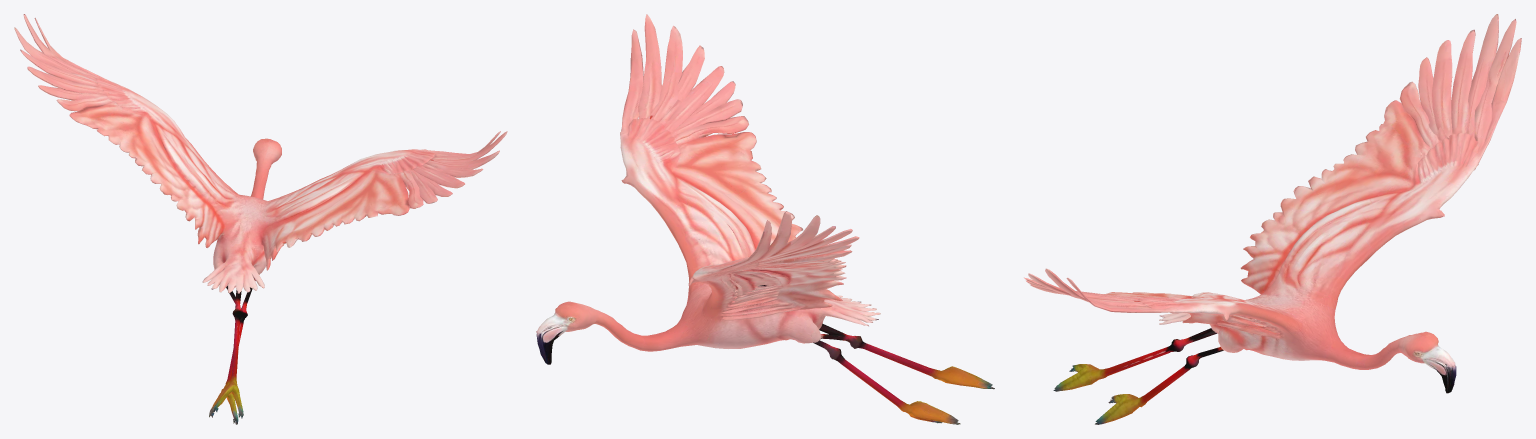
The model's file is flamingo-real.glb.
The picture shows the model from 3 angles, left to right: view 1: azimuth 30°, elevation 25°; view 2: azimuth 150°, elevation 25°; view 3: azimuth 270°, elevation 25°; orthographic projection. The views are drawn at different scales.
Size of the model in its own units: 1.88 by 1.67 by 2.
Materials: 1 (1 with a texture image).
